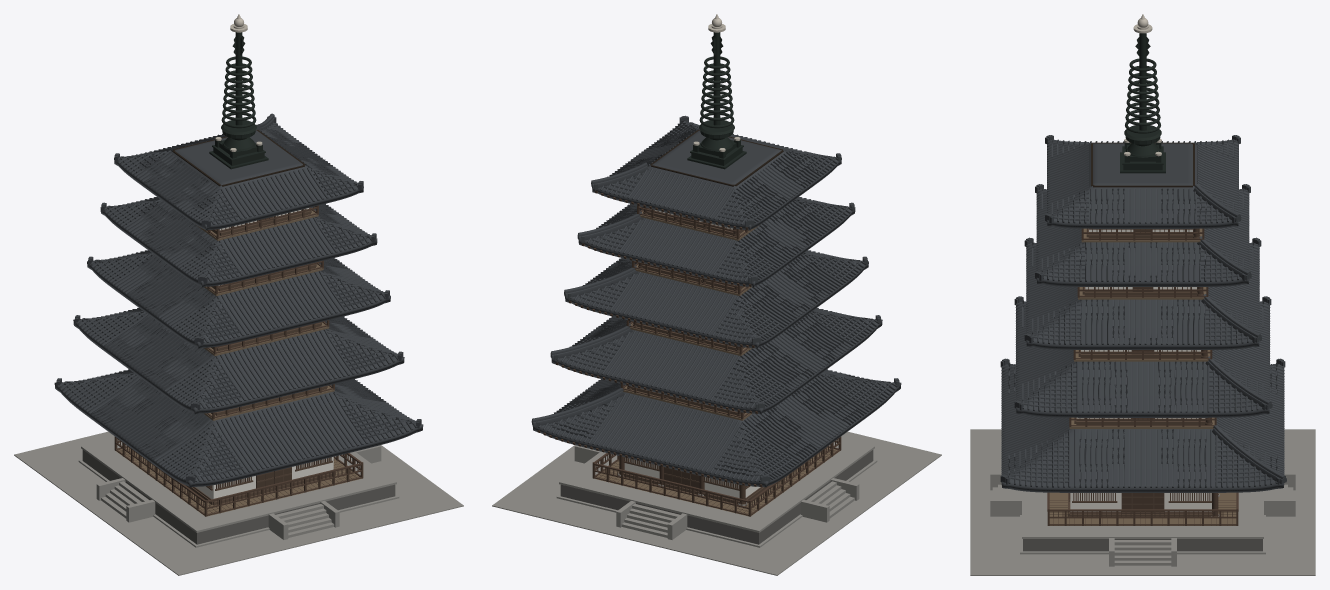
The model's file is jp-01-horyuji-kondo-tou.glb.
The picture shows the model from 3 angles, left to right: view 1: azimuth 30°, elevation 25°; view 2: azimuth 150°, elevation 25°; view 3: azimuth 270°, elevation 25°; orthographic projection. The views are drawn at different scales.
Parts seen in each view (by area): view 1: 屋根詳細_1, 石畳, 基壇, 屋根詳細_2, 屋根_1, 屋根詳細_3, 屋根_2, 屋根詳細_4, 屋根_5, 屋根詳細_5, 屋根_3, 屋根_4 (+8 smaller); view 2: 屋根詳細_1, 石畳, 屋根詳細_2, 基壇, 屋根_1, 屋根詳細_3, 屋根詳細_4, 屋根_2, 屋根詳細_5, 屋根_5, 屋根_3, 屋根_4 (+8 smaller); view 3: 石畳, 屋根詳細_1, 屋根_1, 基壇, 屋根詳細_2, 屋根_2, 屋根_5, 屋根詳細_3, 屋根_3, 屋根詳細_5, 屋根詳細_4, 屋根_4 (+11 smaller).
Part boxes in pixels (bbox=[...]): 屋根詳細_1: bbox=[56, 369, 421, 482]; 石畳: bbox=[14, 431, 463, 575]; 基壇: bbox=[78, 438, 399, 547]; 屋根詳細_2: bbox=[74, 307, 403, 410]; 屋根_1: bbox=[54, 375, 423, 487]; 屋根詳細_3: bbox=[88, 250, 389, 344]; 屋根_2: bbox=[73, 313, 404, 414]; 屋根詳細_4: bbox=[101, 197, 376, 283]; 屋根_5: bbox=[114, 130, 363, 230]; 屋根詳細_5: bbox=[114, 113, 363, 227]; 屋根_3: bbox=[87, 254, 390, 348]; 屋根_4: bbox=[100, 201, 377, 287]; 屋根詳細_1: bbox=[531, 369, 899, 486]; 石畳: bbox=[492, 431, 941, 575]; 屋根詳細_2: bbox=[550, 307, 881, 413]; 基壇: bbox=[556, 438, 877, 547]; 屋根_1: bbox=[532, 375, 901, 487]; 屋根詳細_3: bbox=[564, 250, 867, 347]; 屋根詳細_4: bbox=[577, 197, 854, 286]; 屋根_2: bbox=[551, 312, 882, 414]; 屋根詳細_5: bbox=[591, 115, 841, 230]; 屋根_5: bbox=[592, 122, 841, 230]; 屋根_3: bbox=[565, 254, 868, 348]; 屋根_4: bbox=[578, 201, 855, 287]; 石畳: bbox=[970, 429, 1315, 575]; 屋根詳細_1: bbox=[1000, 358, 1286, 487]; 屋根_1: bbox=[1001, 364, 1284, 492]; 基壇: bbox=[990, 472, 1295, 566]; 屋根詳細_2: bbox=[1014, 296, 1272, 412]; 屋根_2: bbox=[1016, 301, 1269, 417]; 屋根_5: bbox=[1047, 141, 1238, 228]; 屋根詳細_3: bbox=[1024, 237, 1261, 344]; 屋根_3: bbox=[1026, 243, 1259, 349]; 屋根詳細_5: bbox=[1045, 135, 1241, 223]; 屋根詳細_4: bbox=[1035, 184, 1251, 281]; 屋根_4: bbox=[1036, 190, 1249, 286].
Bounding box in the file's own units: 6.3 × 10 × 6.3.
